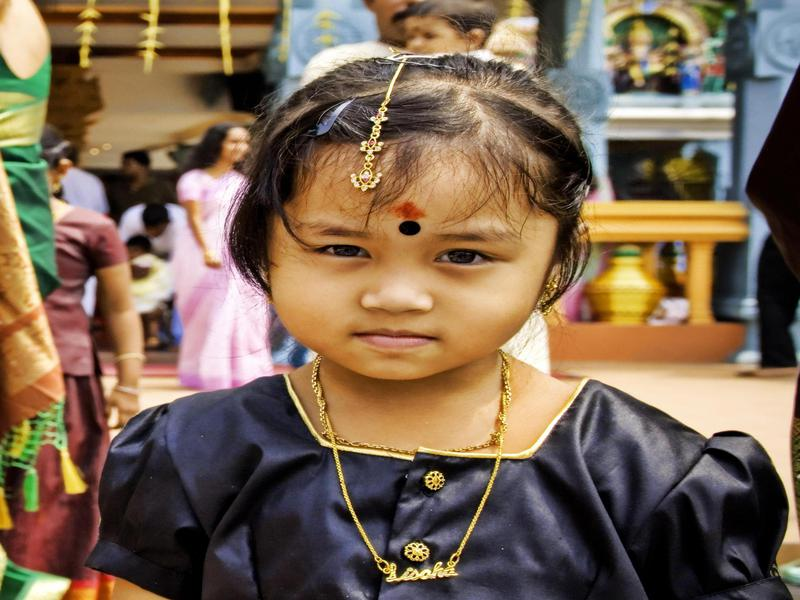person: (103, 58, 792, 600)
